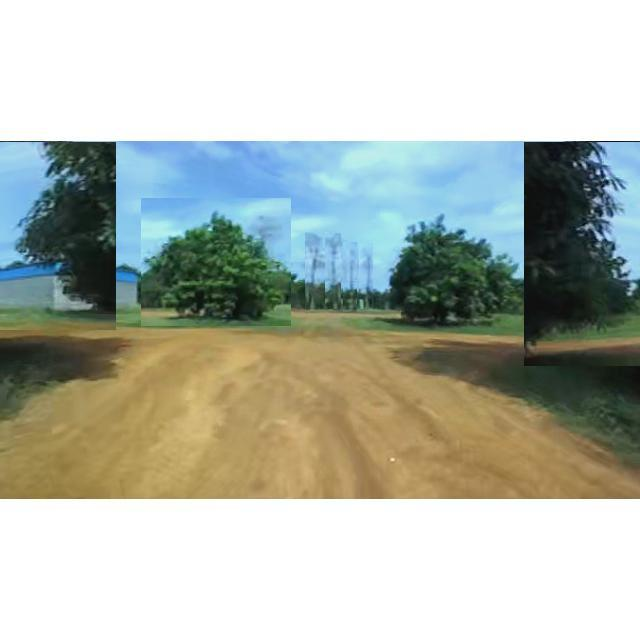tree: (524, 142, 640, 366), (0, 142, 116, 330), (141, 198, 291, 326), (387, 218, 527, 338), (305, 232, 329, 316), (325, 233, 341, 309), (343, 242, 357, 312), (359, 243, 373, 309)
